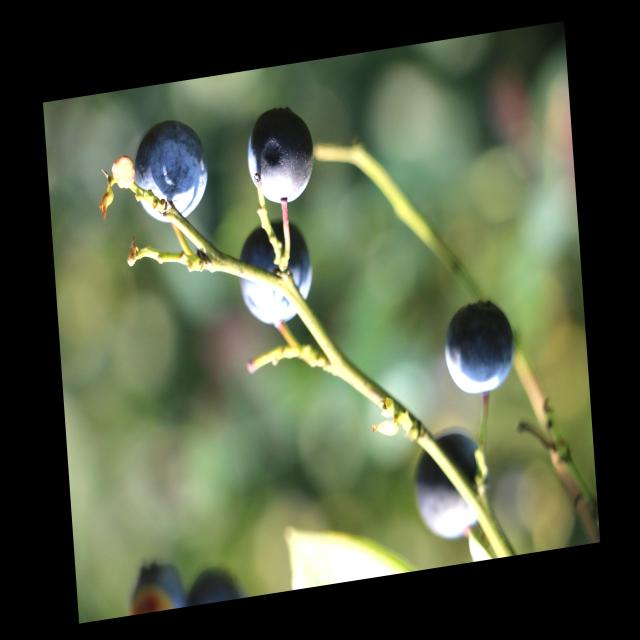blueberry: (233, 220, 316, 332), (410, 429, 490, 541), (131, 118, 210, 229), (245, 104, 315, 208), (441, 300, 515, 395)
